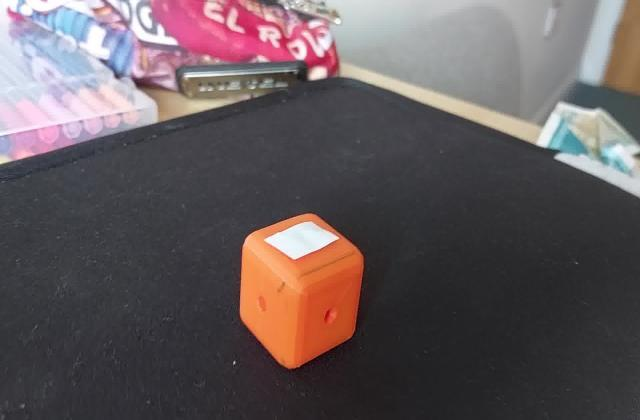cube: (236, 207, 366, 371)
white: (268, 227, 332, 264)
